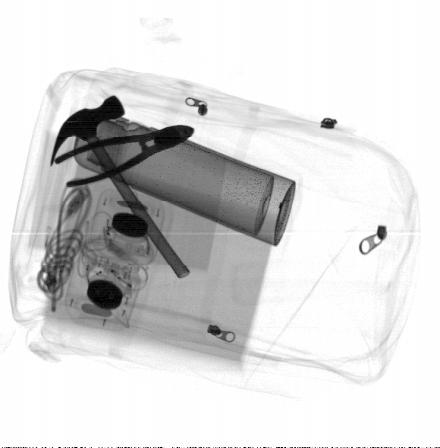Hammer: (50, 95, 190, 278)
Pliers: (55, 126, 195, 188)
